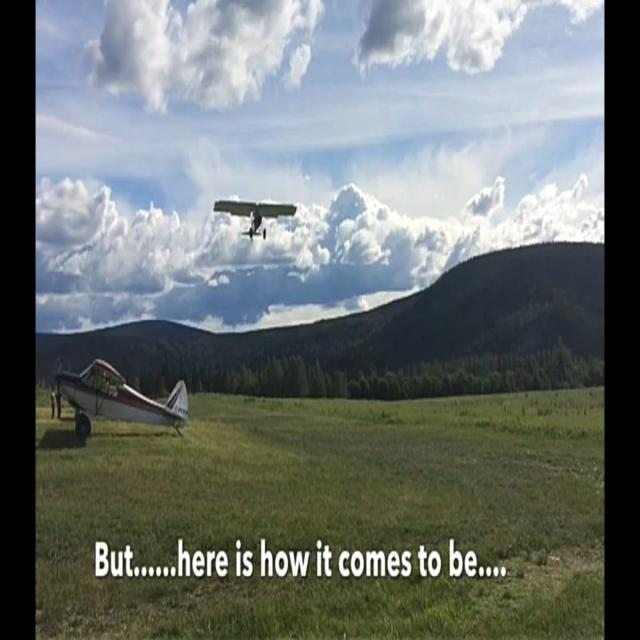iha: (245, 200, 265, 242)
